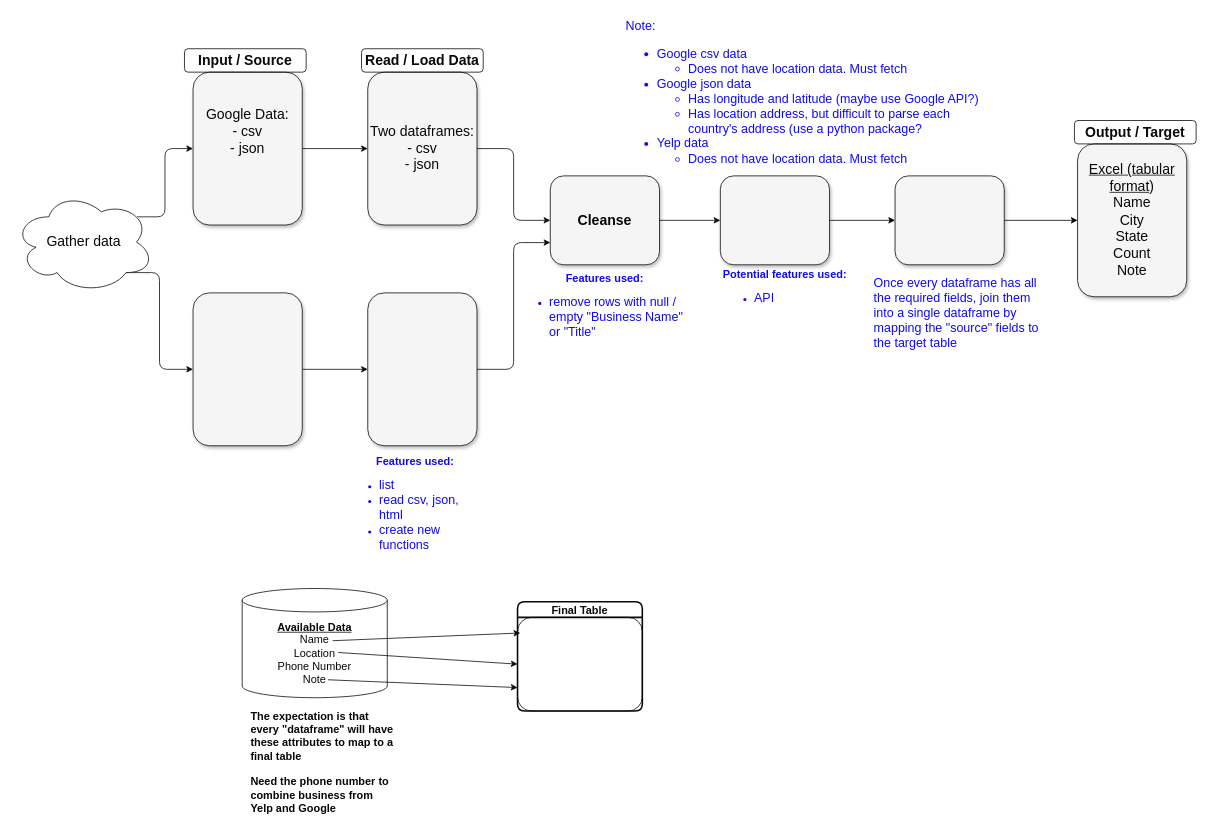
This 1210x828 diagram has some shape labels left out. Here are the shapes that lost their labels. From the top down, the centre of each, then its label:
At [775,221]: "Transform".
At [950,221]: "Join".
At [248,370]: "Yelp (html files): Collection items Bookmark".
At [423,370]: "One dataframe storing records from both html files".
At [579,664]: "Name City State Country Note".
